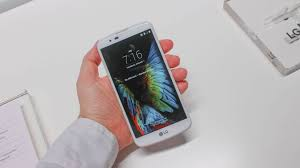lg: (99, 18, 191, 149)
